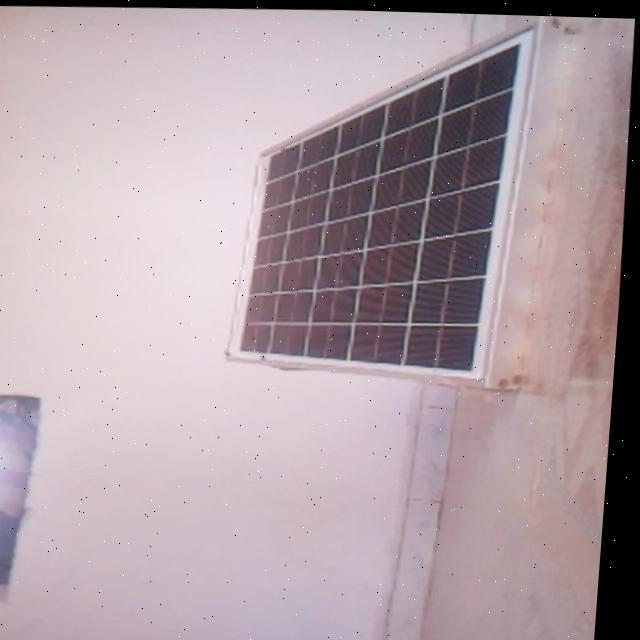Normal Solar Panel: (223, 9, 563, 388)
